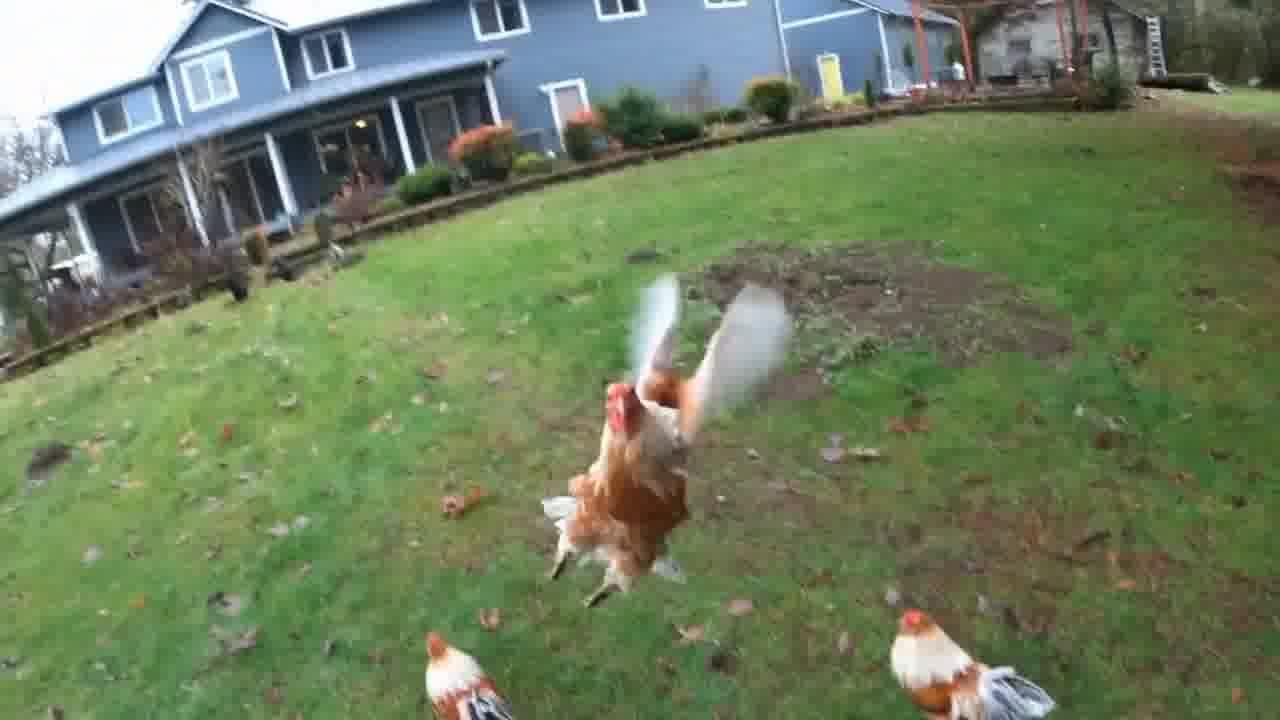Normal: (526, 276, 738, 610), (856, 568, 1086, 720), (398, 620, 532, 720)
